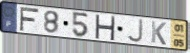5: (71, 11, 90, 39)
8: (42, 10, 61, 35)
F: (19, 6, 41, 32)
H: (94, 13, 117, 42)
J: (126, 18, 144, 44)
K: (150, 20, 168, 47)
